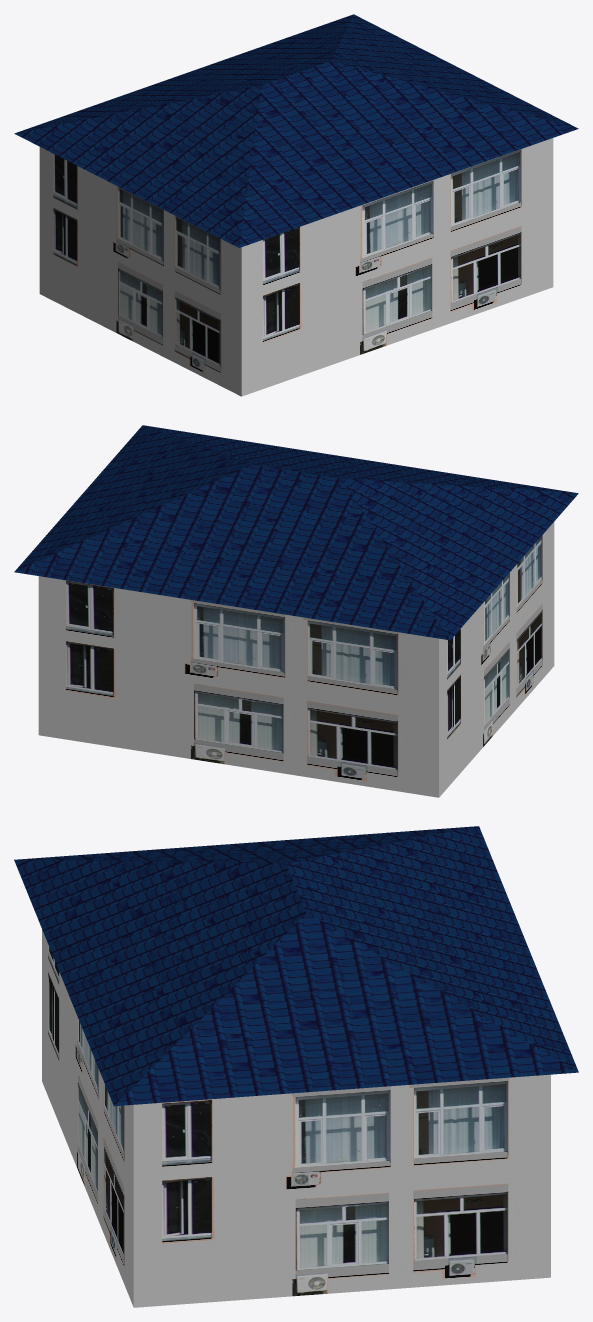
The picture shows the model from 3 angles, top to bottom: view 1: azimuth 30°, elevation 25°; view 2: azimuth 150°, elevation 25°; view 3: azimuth 270°, elevation 25°; orthographic projection. The views are drawn at different scales.
Parts seen in each view (by area): view 1: CityEngineMaterial_9_m, CityEngineMaterial_6_m; view 2: CityEngineMaterial_9_m, CityEngineMaterial_6_m; view 3: CityEngineMaterial_6_m, CityEngineMaterial_9_m.
Boxes of the visible parts, x1,y1,x2,y2 form: CityEngineMaterial_9_m: (39, 138, 553, 396); CityEngineMaterial_6_m: (14, 14, 578, 247); CityEngineMaterial_9_m: (38, 522, 554, 797); CityEngineMaterial_6_m: (14, 425, 578, 640); CityEngineMaterial_6_m: (14, 826, 578, 1106); CityEngineMaterial_9_m: (42, 929, 550, 1307).
Bounding box in the file's own units: 25.57 × 12.4 × 21.8.
